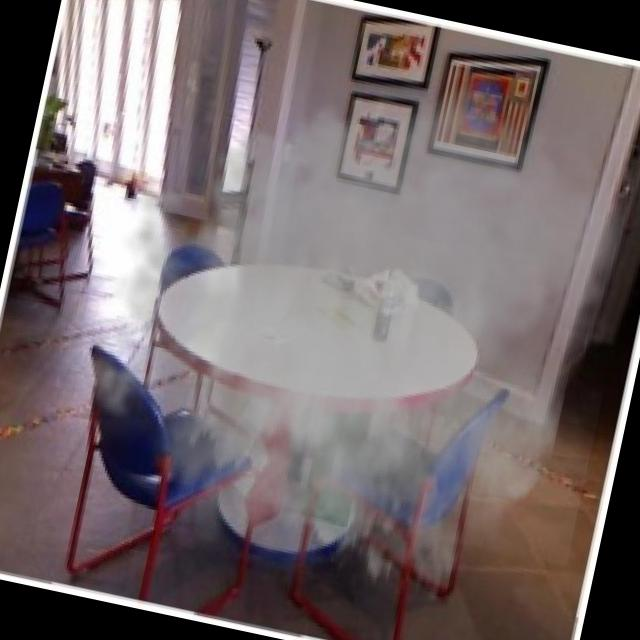Smoke: (25, 0, 640, 640)
